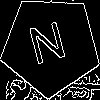N: (26, 20, 71, 74)
